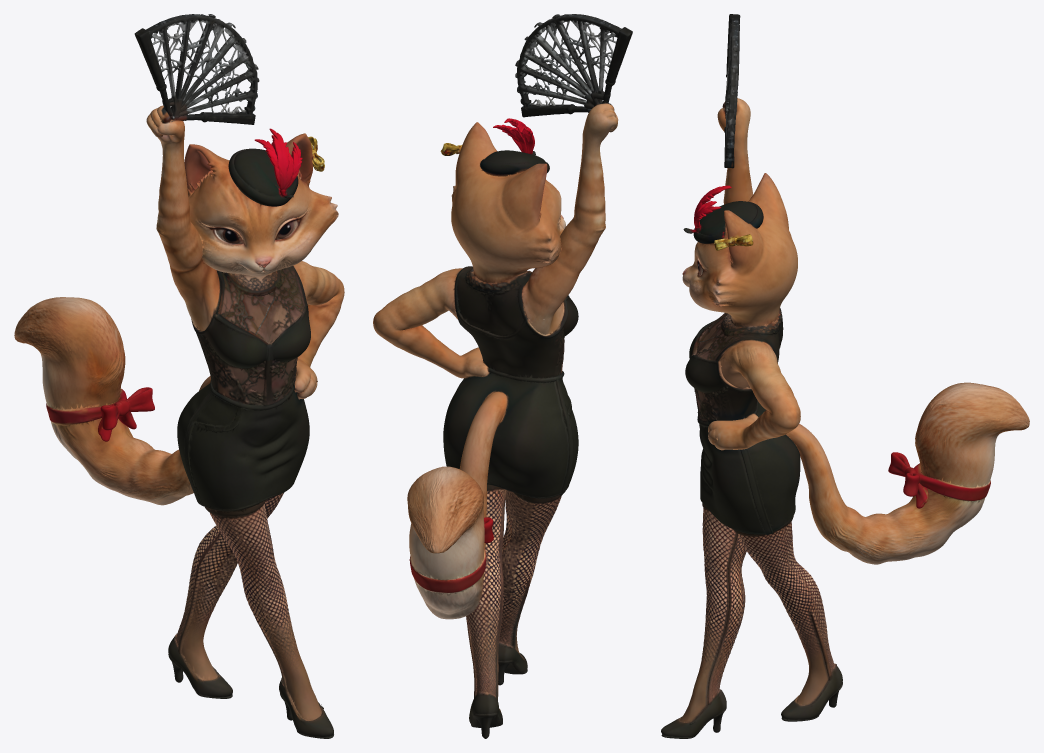
The model's file is 歌剧猫.glb.
3 renders of one model, left to right at view 1: azimuth 30°, elevation 25°; view 2: azimuth 150°, elevation 25°; view 3: azimuth 270°, elevation 25°, orthographic. The views are drawn at different scales.
Parts seen in each view (by area): view 1: tripo_node_86284736-6cd2-444d-a891-d081ffe3b92f; view 2: tripo_node_86284736-6cd2-444d-a891-d081ffe3b92f; view 3: tripo_node_86284736-6cd2-444d-a891-d081ffe3b92f.
Boxes of the visible parts, x1,y1,x2,y2 form: tripo_node_86284736-6cd2-444d-a891-d081ffe3b92f: (14,14,344,738); tripo_node_86284736-6cd2-444d-a891-d081ffe3b92f: (373,14,632,738); tripo_node_86284736-6cd2-444d-a891-d081ffe3b92f: (661,14,1029,738).
Bounding box in the file's own units: 0.3335 × 0.9771 × 0.4949.
Materials: 1 (1 with a texture image).
